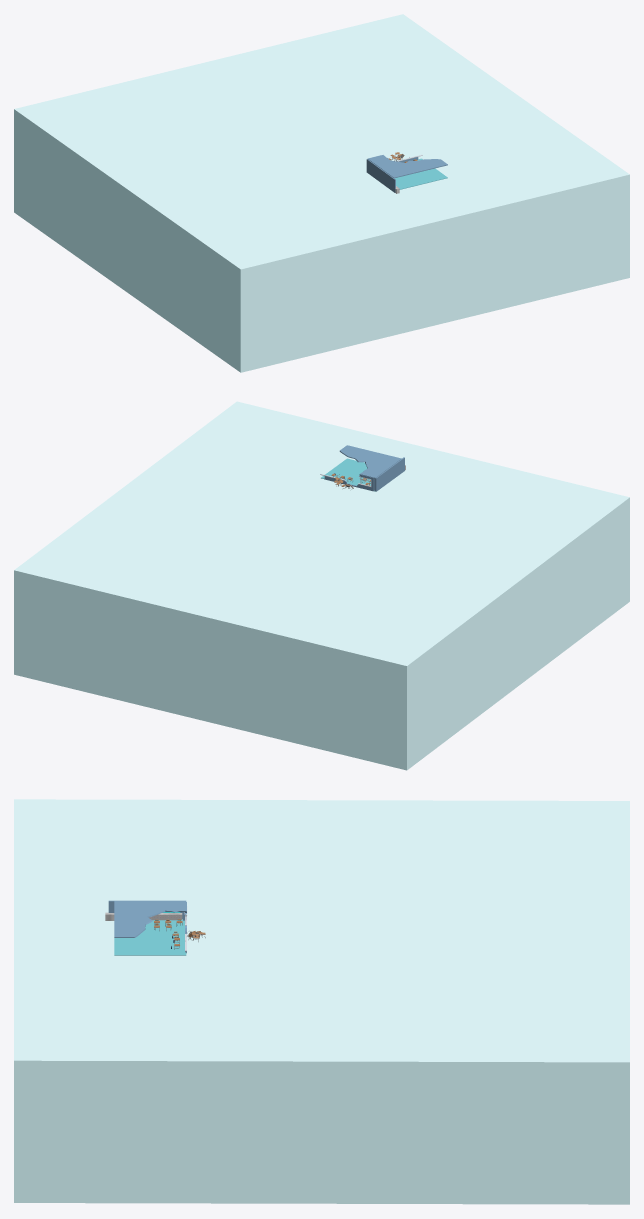
The model's file is Arona room.glb.
3 views of the same model, one above another, from view 1: azimuth 30°, elevation 25°; view 2: azimuth 150°, elevation 25°; view 3: azimuth 270°, elevation 25° (orthographic). The views are drawn at different scales.
Parts seen in each view (by area): view 1: Cube.141, Cube.001, Cube; view 2: Cube.141, Cube.001, Cube; view 3: Cube.141, Cube, Cube.001.
Boxes of the visible parts, x1,y1,x2,y2 form: Cube.141: (14, 14, 629, 372); Cube.001: (368, 155, 447, 178); Cube: (395, 158, 447, 189); Cube.141: (14, 401, 629, 770); Cube.001: (339, 445, 401, 478); Cube: (321, 458, 375, 491); Cube.141: (14, 799, 629, 1204); Cube: (114, 919, 186, 955); Cube.001: (114, 900, 186, 937).
Size of the model in its own units: 421 by 128 by 416.
Materials: 15 (7 with a texture image).
